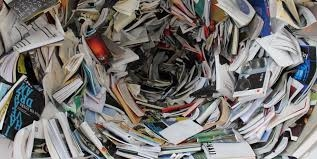paper: (1, 72, 45, 138), (5, 10, 65, 53), (39, 110, 89, 159), (258, 27, 306, 70), (156, 113, 207, 147), (113, 78, 147, 122), (51, 69, 85, 105)
